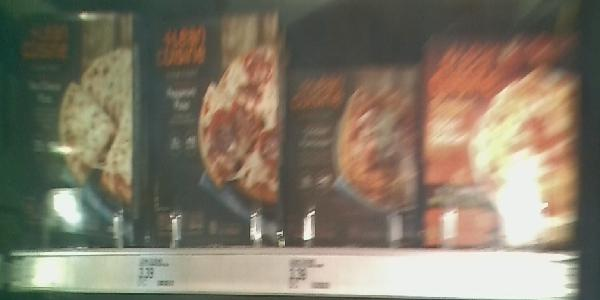pizza1: (421, 22, 582, 245), (141, 5, 286, 238), (2, 4, 139, 247), (284, 63, 418, 241)
